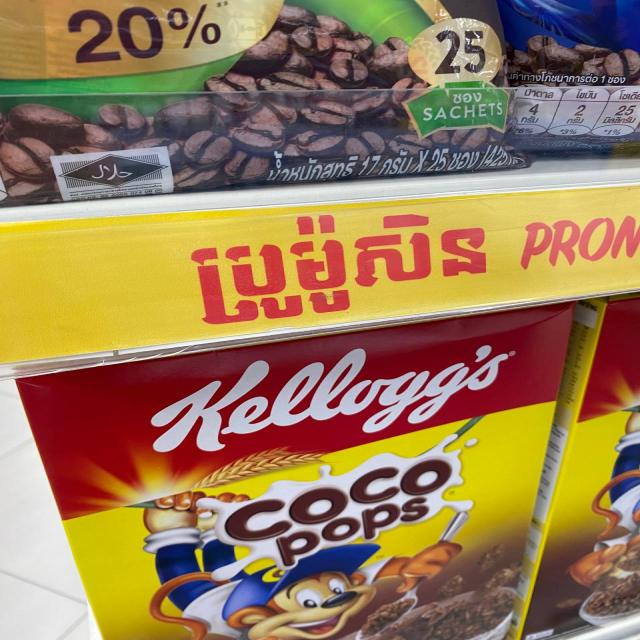631: (566, 102, 595, 119)
641: (57, 2, 224, 77)
678: (431, 26, 493, 80), (613, 101, 640, 119)
740: (523, 97, 547, 118)
Yolov11_80vkh: (169, 200, 499, 336)
